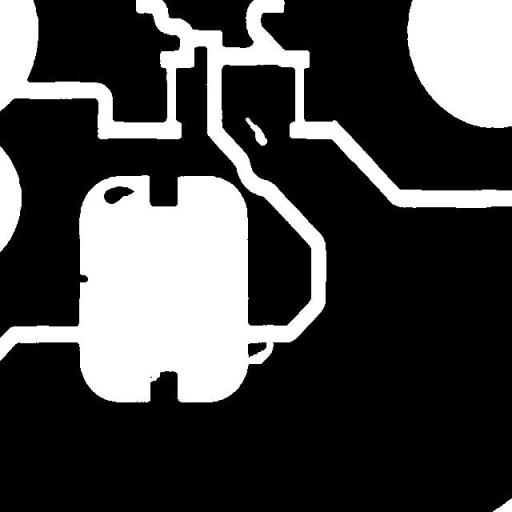copper: (96, 178, 142, 212)
mousebite: (134, 362, 168, 390)
open: (239, 333, 281, 371)
pin-hole: (238, 110, 274, 152)
spur: (67, 266, 95, 290)
